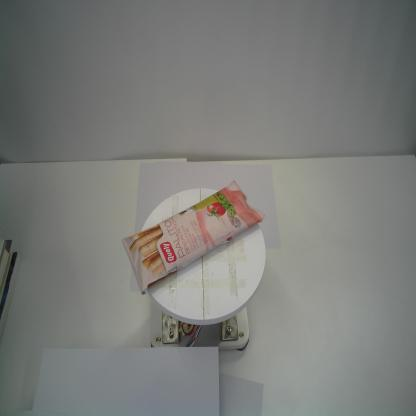Dessert: (121, 180, 266, 295)
